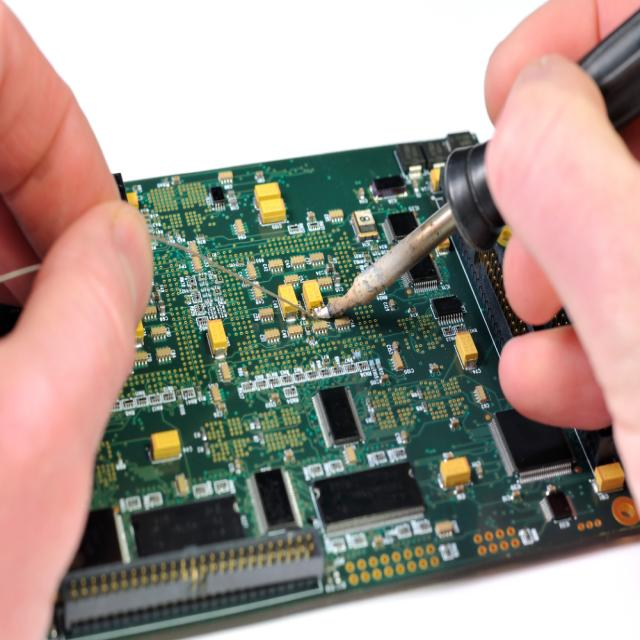pcb: (46, 128, 638, 636), (454, 330, 478, 370), (206, 317, 229, 358), (351, 207, 378, 241)
